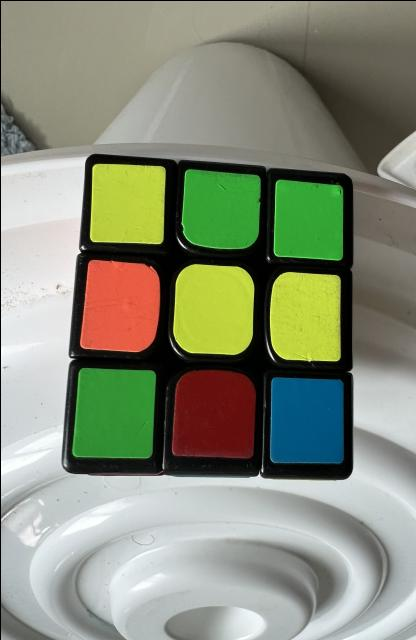Blue: (269, 376, 343, 462)
Green: (72, 366, 155, 458), (181, 168, 260, 249), (273, 179, 342, 260)
Orange: (79, 259, 159, 351)
Red: (171, 369, 255, 458)
Yellow: (172, 264, 254, 354), (269, 271, 340, 360), (89, 162, 165, 244)
